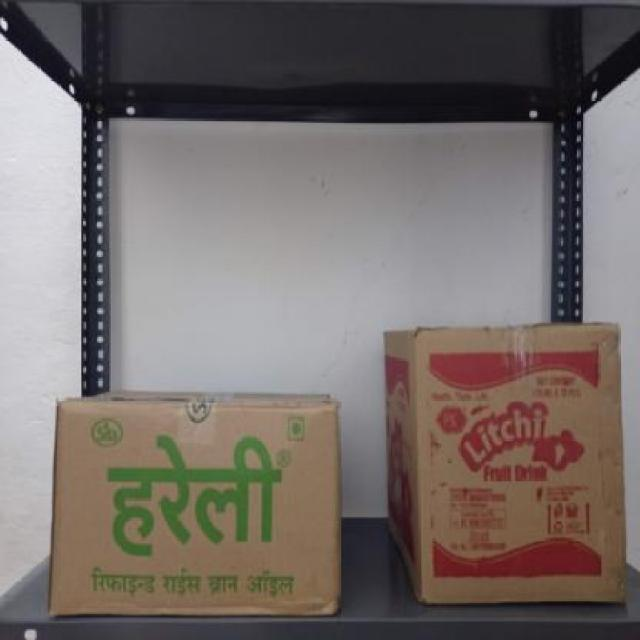box: (53, 399, 339, 619), (412, 324, 630, 608)
